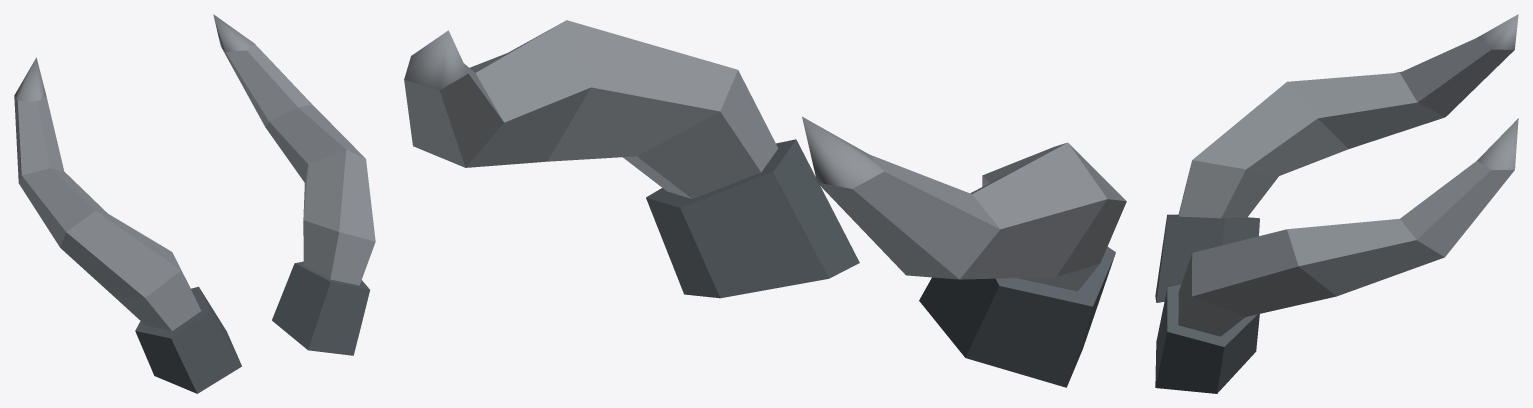
The model's file is Chr_HelmetAttachment_07_Static.fbx.
3 renders of one model, left to right at view 1: azimuth 30°, elevation 25°; view 2: azimuth 150°, elevation 25°; view 3: azimuth 270°, elevation 25°, orthographic. The views are drawn at different scales.
Visible parts, largest first — view 1: Chr_HelmetAttachment_07_Static; view 2: Chr_HelmetAttachment_07_Static; view 3: Chr_HelmetAttachment_07_Static.
Boxes of the visible parts, left/top/right/bottom form: Chr_HelmetAttachment_07_Static: left=14, top=14, right=375, bottom=393; Chr_HelmetAttachment_07_Static: left=404, top=20, right=1126, bottom=387; Chr_HelmetAttachment_07_Static: left=1155, top=14, right=1518, bottom=393.
Size of the model in its own units: 0.2998 by 0.2188 by 0.261.
